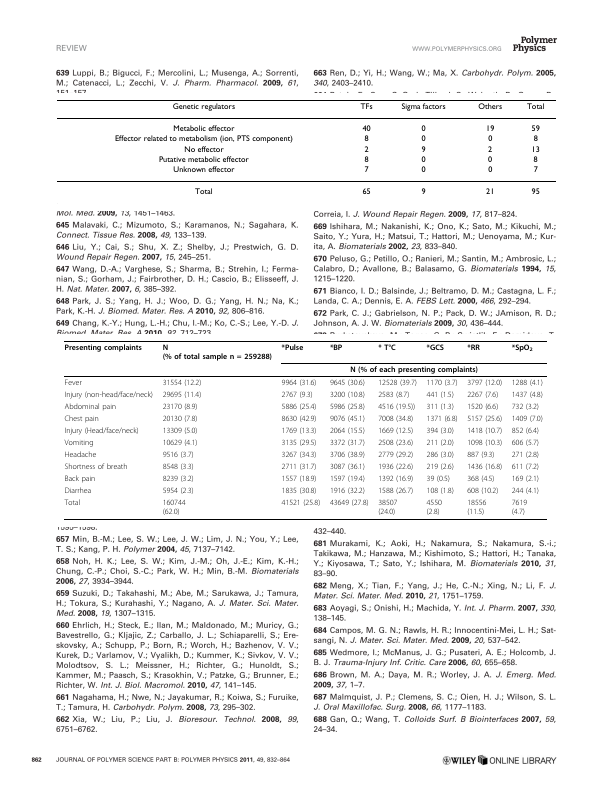borderless: (63, 339, 547, 519), (55, 98, 557, 205)
cell: (162, 343, 273, 361), (113, 135, 293, 145), (349, 365, 479, 375), (157, 155, 249, 165), (64, 390, 154, 400), (64, 426, 140, 436), (64, 343, 143, 352), (171, 102, 236, 112), (64, 462, 128, 472), (172, 125, 235, 134), (172, 166, 235, 175), (64, 402, 117, 412), (400, 102, 446, 112), (162, 498, 186, 516), (377, 378, 418, 388), (183, 145, 224, 155), (162, 378, 202, 388), (162, 390, 202, 400), (377, 402, 416, 412), (377, 498, 398, 516), (466, 498, 487, 516), (329, 378, 366, 388), (466, 378, 503, 388), (329, 390, 366, 400), (329, 402, 366, 412), (329, 414, 366, 424), (377, 414, 414, 424), (466, 414, 503, 424), (329, 426, 366, 436), (377, 426, 414, 436), (466, 426, 503, 436), (329, 438, 366, 448), (377, 438, 414, 448), (466, 438, 503, 448), (329, 450, 366, 460), (377, 450, 414, 460), (329, 462, 366, 472), (377, 462, 414, 472), (466, 462, 503, 472), (281, 378, 317, 388), (162, 402, 198, 412), (281, 402, 317, 412), (64, 414, 100, 424), (162, 414, 198, 424), (281, 414, 317, 424), (162, 426, 198, 436), (281, 426, 317, 436), (162, 438, 198, 448), (281, 438, 317, 448), (281, 450, 317, 460), (281, 462, 317, 472), (281, 498, 321, 507), (329, 498, 369, 507), (329, 474, 366, 483), (377, 474, 414, 483), (329, 486, 366, 495), (377, 486, 414, 495), (425, 378, 458, 388), (511, 378, 544, 388), (281, 390, 314, 400), (377, 390, 410, 400), (466, 390, 499, 400), (511, 390, 544, 400), (466, 402, 499, 412), (425, 414, 458, 424), (511, 414, 544, 424), (64, 450, 97, 460), (162, 450, 195, 460), (162, 462, 195, 472), (281, 474, 317, 483), (281, 486, 317, 495), (425, 498, 443, 516), (511, 498, 528, 516), (425, 390, 455, 400), (425, 402, 455, 412), (425, 426, 455, 436), (64, 438, 94, 448), (425, 438, 455, 448), (425, 450, 455, 460), (425, 462, 455, 472), (162, 474, 195, 483), (162, 486, 195, 495), (466, 486, 499, 495), (511, 402, 540, 412), (511, 426, 540, 436), (511, 438, 540, 448), (466, 450, 495, 460), (511, 450, 540, 460), (511, 462, 540, 472), (64, 474, 96, 483), (425, 486, 455, 495), (466, 474, 495, 483), (511, 474, 540, 483), (511, 486, 540, 495), (477, 102, 503, 112), (64, 486, 92, 495), (425, 474, 451, 483), (511, 343, 534, 353), (281, 343, 304, 352), (525, 102, 545, 112), (64, 378, 83, 388), (194, 188, 213, 198), (377, 343, 397, 352), (425, 343, 445, 352), (64, 498, 81, 507), (359, 102, 373, 112), (466, 343, 481, 352), (329, 343, 343, 352), (530, 145, 540, 155), (361, 188, 371, 198), (485, 188, 495, 198), (530, 188, 540, 198), (361, 125, 371, 134), (485, 125, 495, 134), (530, 125, 540, 134), (363, 135, 369, 145), (420, 135, 426, 145), (487, 135, 493, 145), (532, 135, 538, 145), (363, 145, 369, 155), (420, 145, 426, 155), (487, 145, 493, 155), (363, 155, 369, 165), (420, 155, 426, 165), (487, 155, 493, 165), (532, 155, 538, 165), (420, 188, 426, 198), (420, 125, 426, 134), (363, 166, 369, 175), (420, 166, 426, 175), (487, 166, 493, 175), (532, 166, 538, 175)
